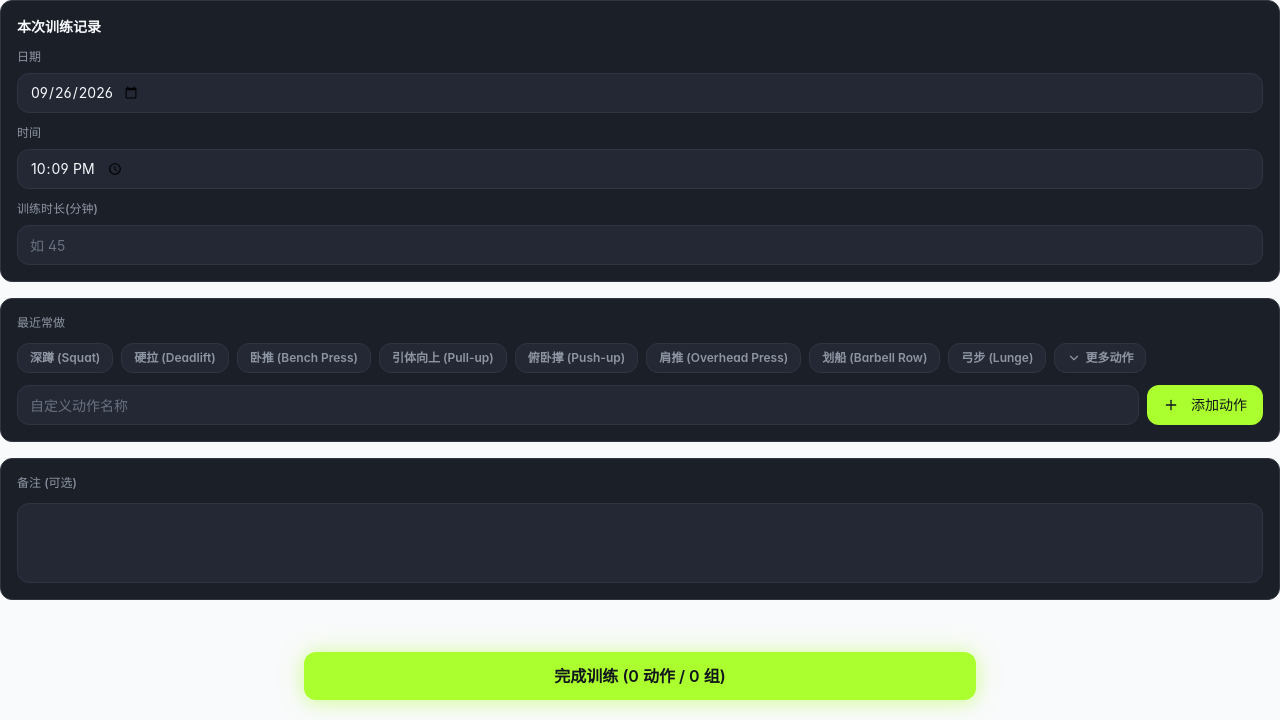
StrengthForm (力量训练统一表单) › 校验:创建不填训练时长 → 保存被拦截并提示
This screenshot has width=1280, height=720.
Click the button "深蹲 (Squat)". click: (65, 358)
box: [17,343,113,373]
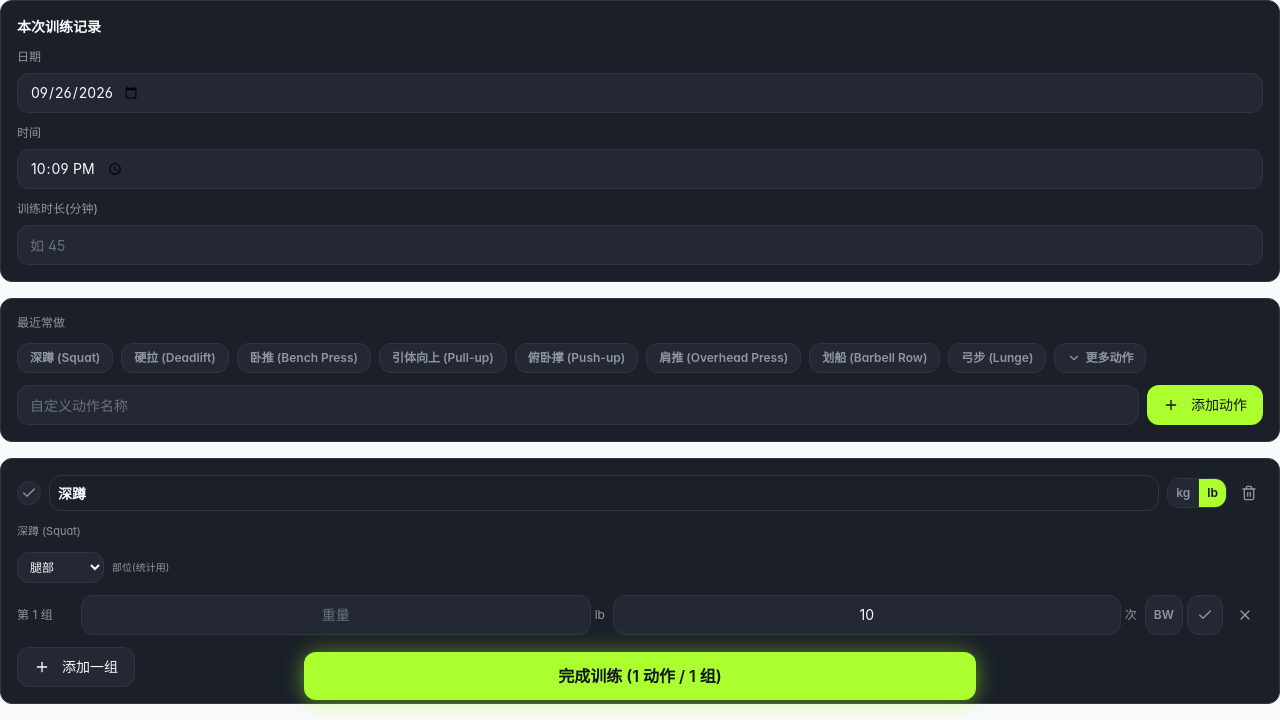
Type "60" into the field with placeholder "重量". click: (336, 614)
box: [81,594,591,634]
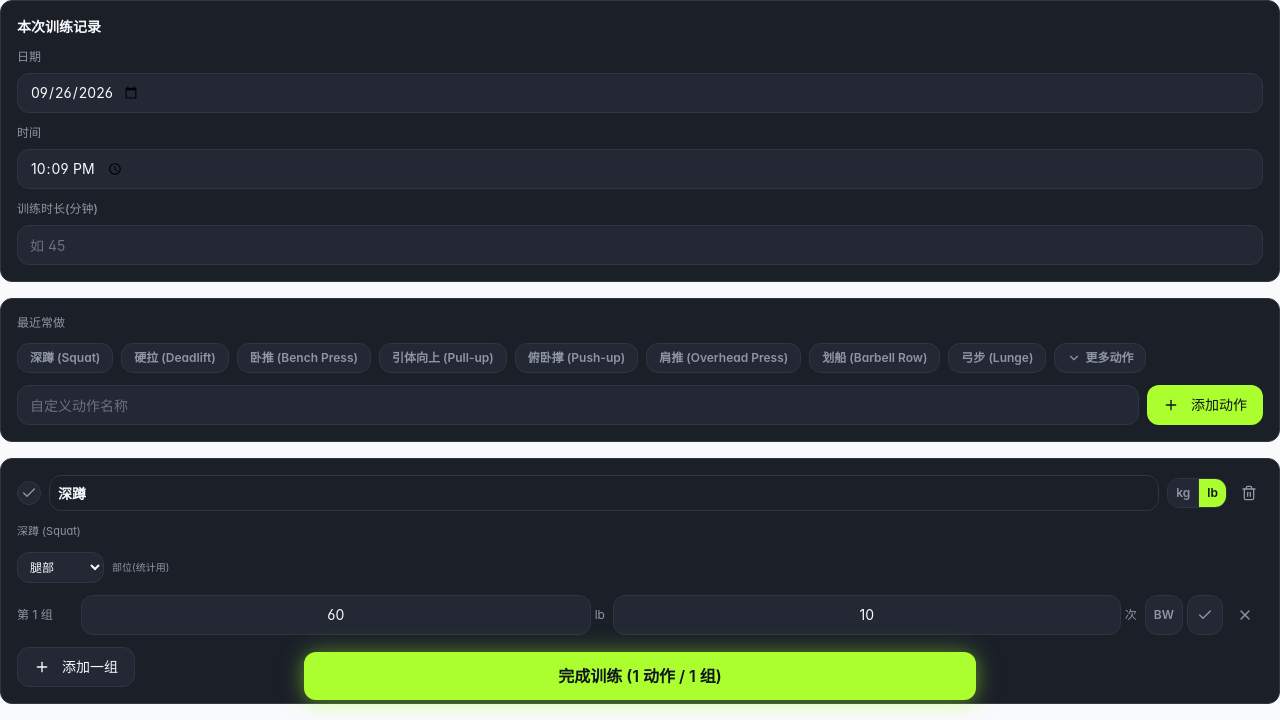
Click the button "完成训练 (1 动作 / 1 组)". click: (640, 676)
box: [304,652,976,700]
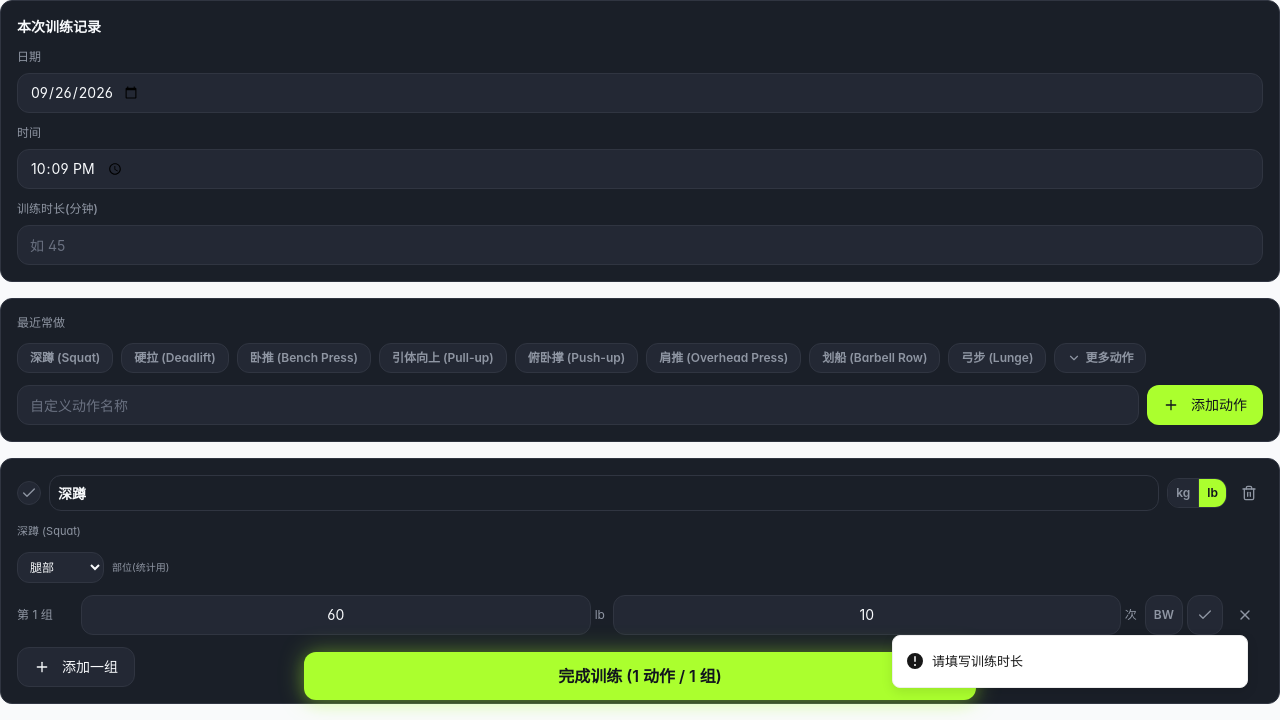
Now the text "请填写训练时长" is shown, box [932,652,1023,671]
